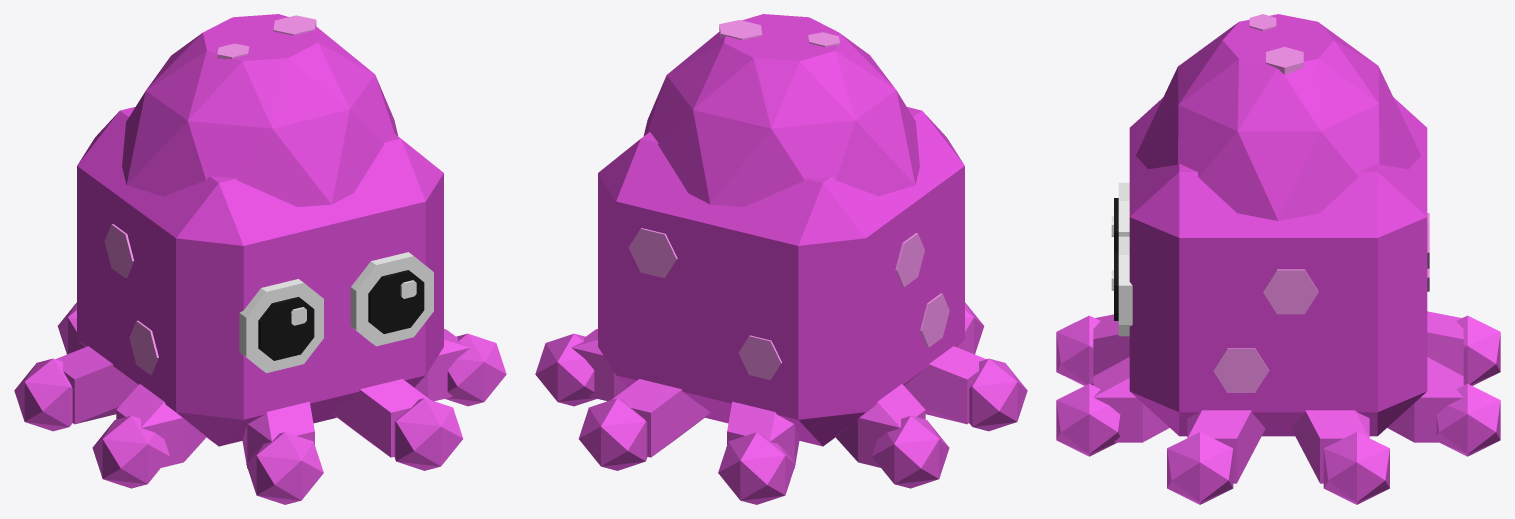
Rendered from Octopus.fbx.
3 renders of one model, left to right at view 1: azimuth 30°, elevation 25°; view 2: azimuth 150°, elevation 25°; view 3: azimuth 270°, elevation 25°, orthographic.
Parts seen in each view (by area): view 1: Octopus, Octopus_Dome, Octopus_Arms, Octopus_Eyes, Octopus_Pupils, Octopus_Spots; view 2: Octopus, Octopus_Dome, Octopus_Arms, Octopus_Spots; view 3: Octopus, Octopus_Dome, Octopus_Arms, Octopus_Spots, Octopus_Eyes, Octopus_Pupils.
Boxes of the visible parts, bbox=[...] form: Octopus: bbox=[77, 107, 443, 446]; Octopus_Dome: bbox=[122, 14, 398, 206]; Octopus_Arms: bbox=[14, 302, 506, 504]; Octopus_Eyes: bbox=[239, 252, 433, 373]; Octopus_Pupils: bbox=[258, 270, 424, 360]; Octopus_Spots: bbox=[104, 15, 316, 374]; Octopus: bbox=[598, 107, 964, 446]; Octopus_Dome: bbox=[643, 14, 919, 206]; Octopus_Arms: bbox=[535, 302, 1027, 504]; Octopus_Spots: bbox=[628, 20, 949, 379]; Octopus: bbox=[1129, 97, 1427, 436]; Octopus_Dome: bbox=[1136, 14, 1420, 220]; Octopus_Arms: bbox=[1056, 311, 1500, 504]; Octopus_Spots: bbox=[1213, 14, 1429, 392]; Octopus_Eyes: bbox=[1111, 182, 1132, 336]; Octopus_Pupils: bbox=[1114, 198, 1118, 320].
Size of the model in its own units: 2.94 by 2.73 by 2.87.
